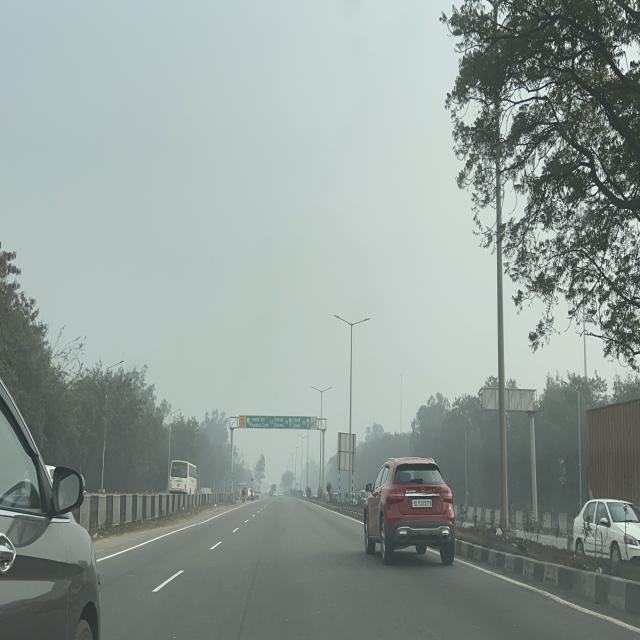GENERAL: (246, 416, 310, 428), (230, 472, 234, 481)
